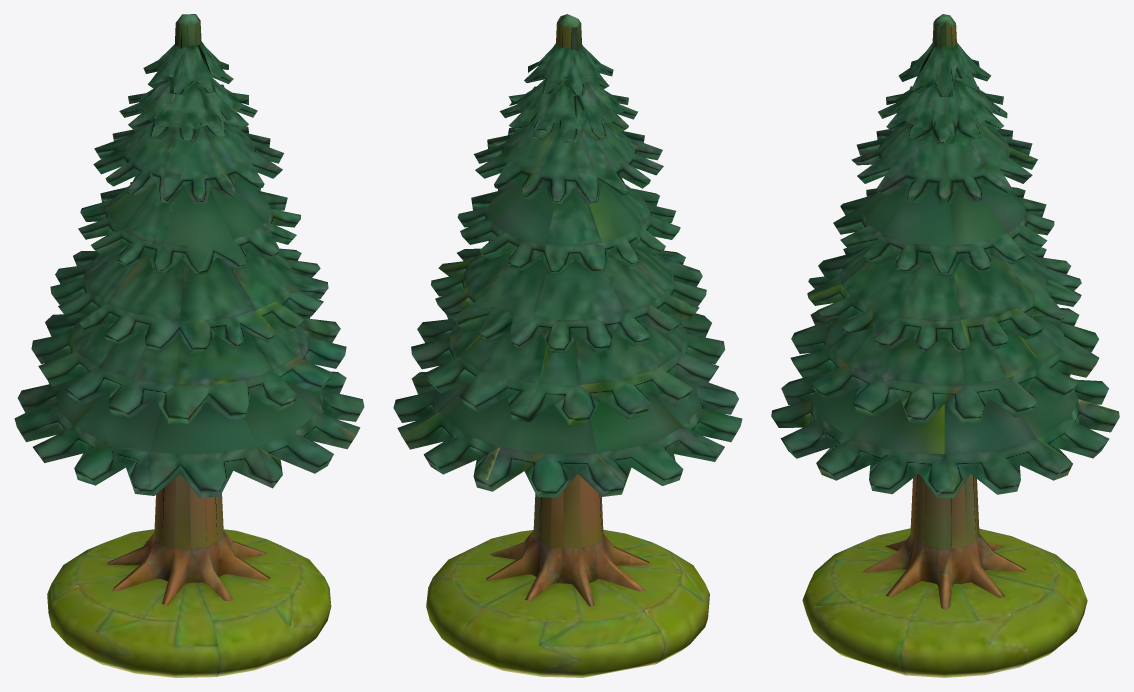
File: fir.glb
3 renders of one model, left to right at view 1: azimuth 30°, elevation 25°; view 2: azimuth 150°, elevation 25°; view 3: azimuth 270°, elevation 25°, orthographic.
Visible parts, largest first — view 1: geometry_0; view 2: geometry_0; view 3: geometry_0.
Part boxes in pixels (x1,y1,x2,y2): geometry_0: [14, 14, 364, 677]; geometry_0: [393, 14, 742, 677]; geometry_0: [771, 14, 1119, 677].
Bounding box in the file's own units: 0.5261 × 1 × 0.5212.
1 material, 1 textured.
